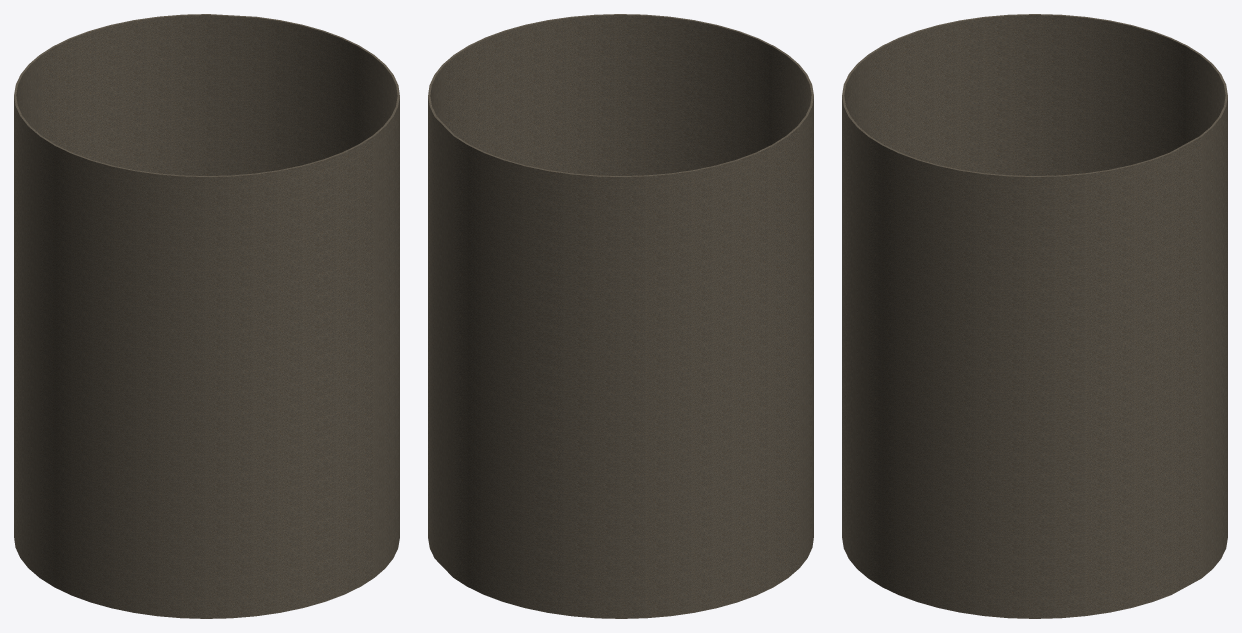
The model's file is outerParchment.glb.
3 renders of one model, left to right at view 1: azimuth 30°, elevation 25°; view 2: azimuth 150°, elevation 25°; view 3: azimuth 270°, elevation 25°, orthographic.
Visible parts, largest first — view 1: Spiral.015; view 2: Spiral.015; view 3: Spiral.015.
Boxes of the visible parts, x1,y1,x2,y2 form: Spiral.015: (14,14,399,618); Spiral.015: (428,14,813,618); Spiral.015: (842,14,1227,618).
Bounding box in the file's own units: 1.04 × 1.31 × 1.04.
1 material, 1 textured.
